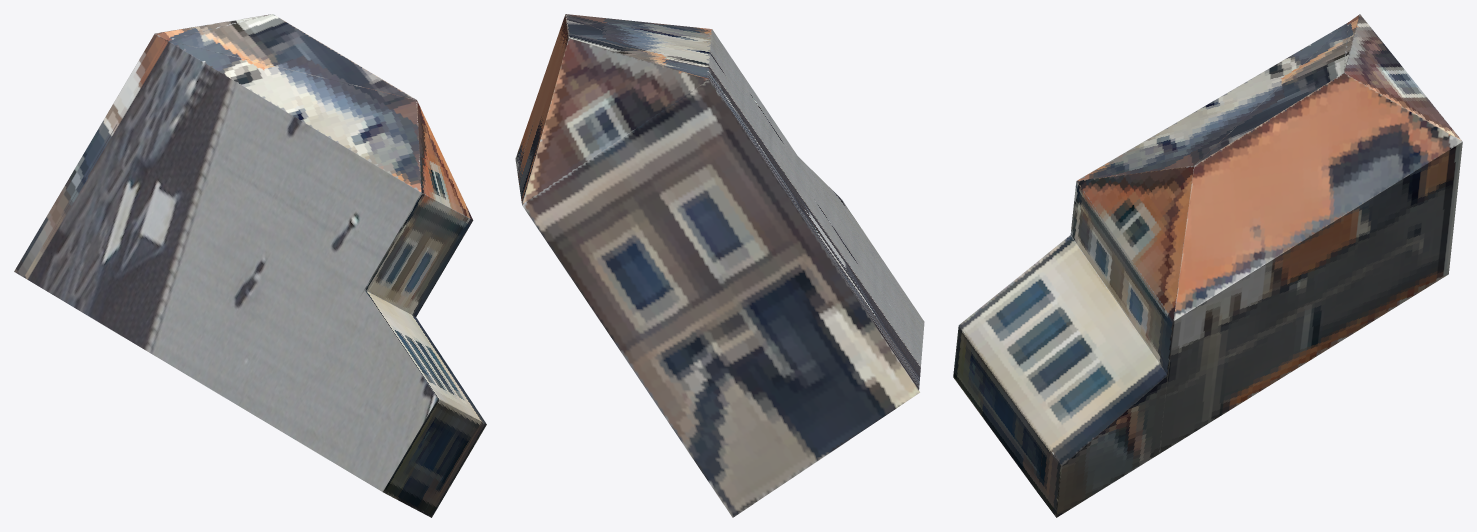
The picture shows the model from 3 angles, left to right: view 1: azimuth 30°, elevation 25°; view 2: azimuth 150°, elevation 25°; view 3: azimuth 270°, elevation 25°; orthographic projection. The views are drawn at different scales.
Parts seen in each view (by area): view 1: BAG_0599100000650093 (×4); view 2: BAG_0599100000650093 (×3); view 3: BAG_0599100000650093 (×4).
Part boxes in pixels (x1,y1,x2,y2): BAG_0599100000650093 (×4): [14, 14, 486, 517]; BAG_0599100000650093 (×3): [515, 14, 924, 517]; BAG_0599100000650093 (×4): [953, 14, 1462, 517].
Bounding box in the file's own units: 12.85 × 13.39 × 14.21.
Materials: 4 (4 with a texture image).
